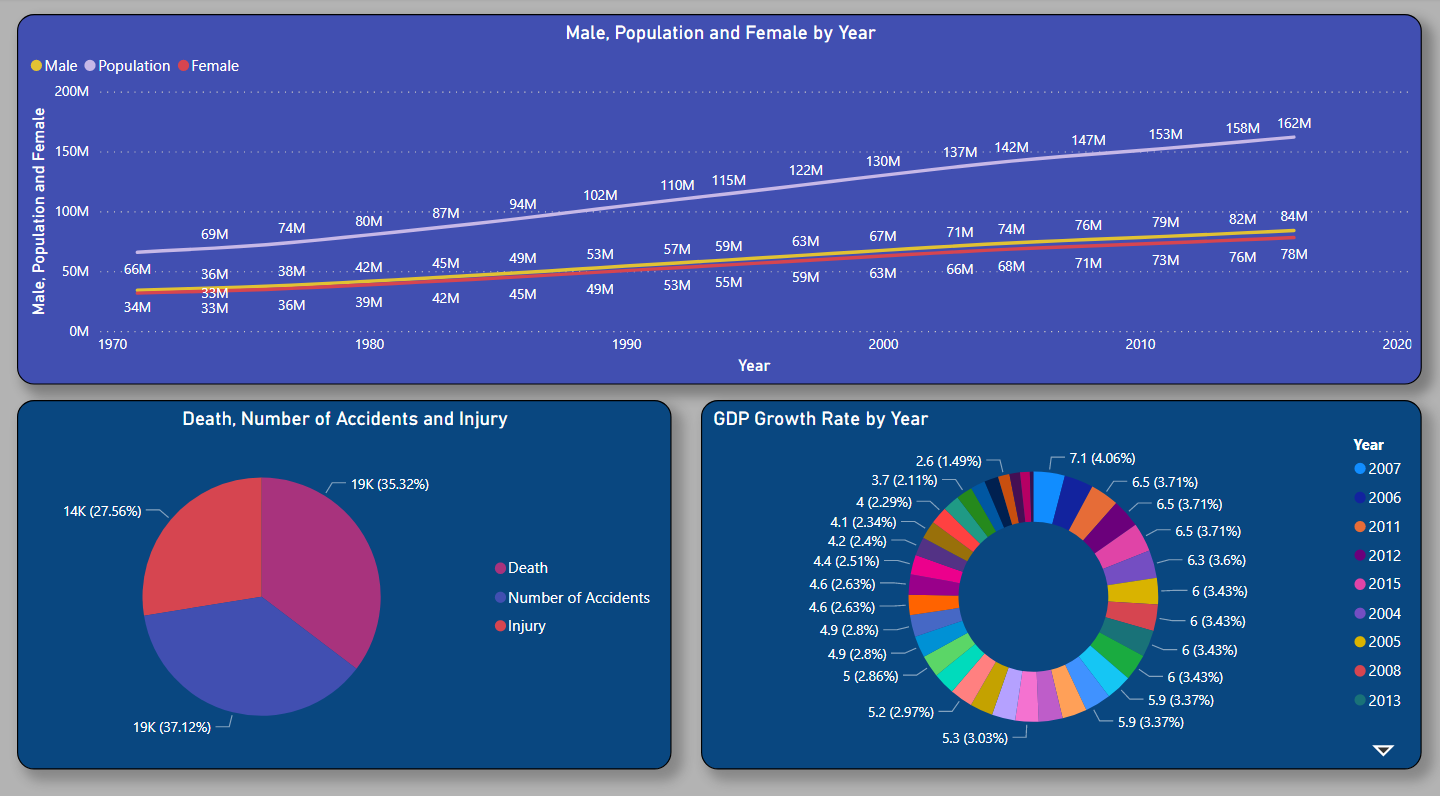

The dashboard page shown, as its layout file describes it:
{"tool":"powerbi","page":{"name":"Page 1","canvas":[1280,720],"ordinal":0},"visuals":[{"type":"lineChart","fields":{"Category":["data-population.Year"],"Y":["Sum(data-population.Male)","Sum(data-population.Population)","Sum(data-population.Female)"]},"box":[28.1,14,1232.2,325.4],"z":0},{"type":"pieChart","fields":{"Y":["Sum(data-accident.Death)","Sum(data-accident.Number of Accidents)","Sum(data-accident.Injury)"]},"box":[28.1,352.5,573.5,323.6],"z":1},{"type":"donutChart","fields":{"Y":["Sum(data-gdp.GDP Growth Rate)"],"Category":["data-gdp.Year"]},"box":[627.9,352.5,632.3,323.6],"z":2}]}

Visuals, with their boxes in screenshot pixels (x1, y1, x2, y2), scaled from the page's 1280x720 canvas onto the 1440x796 screenshot:
lineChart - data-population.Year x Sum(data-population.Male): Rect(32, 15, 1418, 375)
pieChart - Sum(data-accident.Death) x Sum(data-accident.Number of Accidents): Rect(32, 390, 677, 747)
donutChart - Sum(data-gdp.GDP Growth Rate) x data-gdp.Year: Rect(706, 390, 1418, 747)
